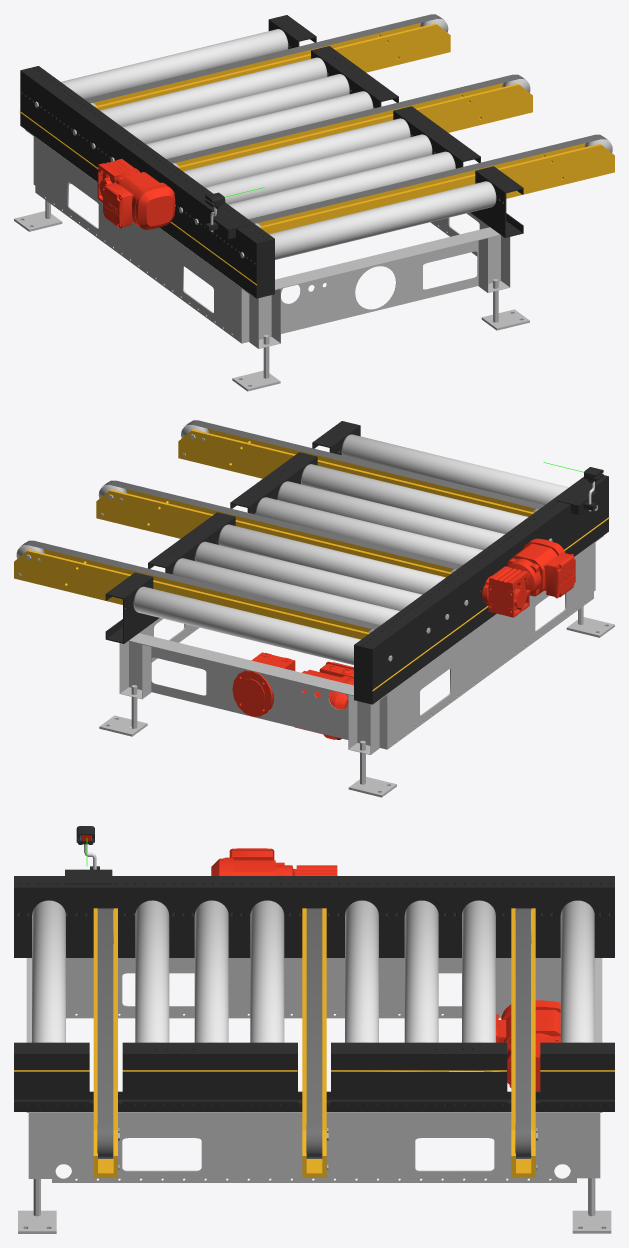
File: realvirtual_chain_transfer_left.glb
The picture shows the model from 3 angles, top to bottom: view 1: azimuth 30°, elevation 25°; view 2: azimuth 150°, elevation 25°; view 3: azimuth 270°, elevation 25°; orthographic projection. The views are drawn at different scales.
Parts seen in each view (by area): view 1: Base, Transport-Z, Drive-Lin-Y, Transport-X, DriveMesh, Light; view 2: Base, Transport-Z, Drive-Lin-Y, DriveMesh (×2), Transport-X, Light; view 3: Base, Transport-Z, Transport-X, Drive-Lin-Y, DriveMesh (×2), Light.
Part boxes in pixels (box(x1,y1,x2,y2)): Base: box(14, 15, 529, 391); Transport-Z: box(61, 29, 496, 259); Drive-Lin-Y: box(90, 19, 614, 233); Transport-X: box(84, 14, 608, 223); DriveMesh: box(97, 159, 175, 229); Light: box(205, 192, 249, 239); Base: box(99, 421, 614, 797); Transport-Z: box(133, 434, 568, 664); Drive-Lin-Y: box(14, 425, 538, 639); DriveMesh (×2): box(232, 538, 575, 739); Transport-X: box(20, 420, 544, 629); Light: box(557, 467, 603, 515); Base: box(14, 876, 614, 1233); Transport-Z: box(32, 900, 594, 1042); Transport-X: box(97, 908, 530, 1158); Drive-Lin-Y: box(93, 908, 537, 1177); DriveMesh (×2): box(211, 848, 560, 1091); Light: box(65, 826, 112, 884).
Size of the model in its own units: 1.67 by 0.6412 by 1.55.
